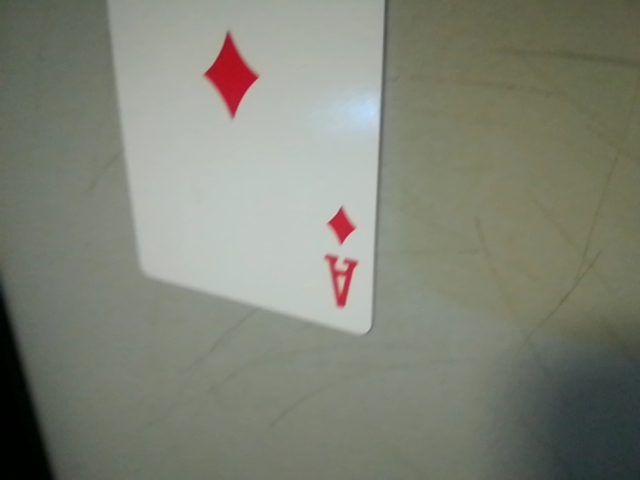fk a: (308, 197, 368, 324)
